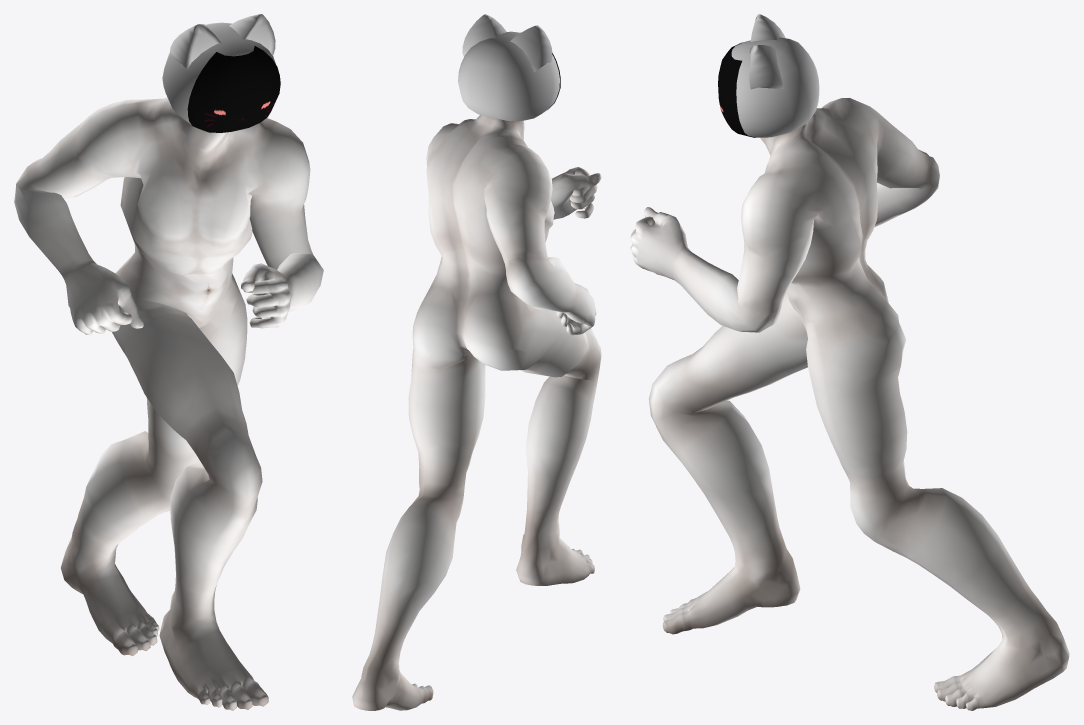
The picture shows the model from 3 angles, left to right: view 1: azimuth 30°, elevation 25°; view 2: azimuth 150°, elevation 25°; view 3: azimuth 270°, elevation 25°; orthographic projection. The views are drawn at different scales.
Visible parts, largest first — view 1: Muscle_Body, ______?001, Cat_Head; view 2: Muscle_Body, Cat_Head; view 3: Muscle_Body, Cat_Head, ______?001.
Boxes of the visible parts, left/top/right/bottom form: Muscle_Body: left=14, top=97, right=323, bottom=710; ______?001: left=187, top=46, right=280, bottom=132; Cat_Head: left=162, top=14, right=275, bottom=124; Muscle_Body: left=352, top=115, right=601, bottom=710; Cat_Head: left=458, top=14, right=559, bottom=121; Muscle_Body: left=630, top=98, right=1069, bottom=710; Cat_Head: left=731, top=14, right=819, bottom=137; ______?001: left=718, top=42, right=755, bottom=137.
Size of the model in its own units: 8.89 by 27.71 by 16.54.
